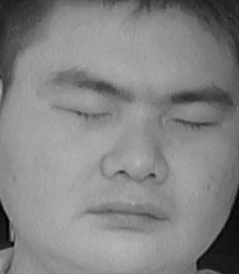blink: (59, 97, 115, 129), (171, 106, 223, 139)
mouth: (86, 191, 168, 237)
